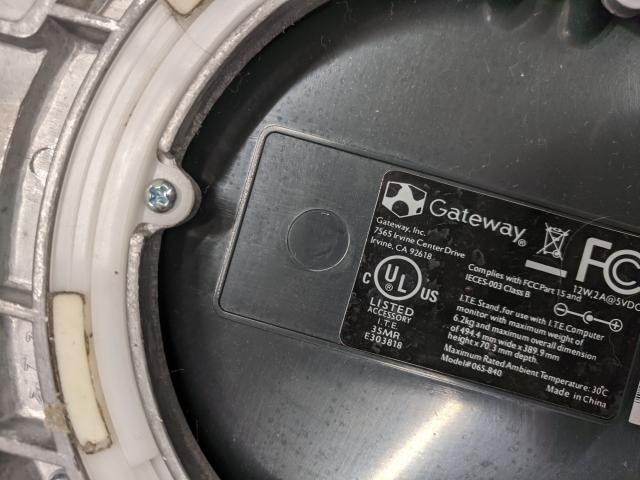CRS: (141, 179, 176, 211)
